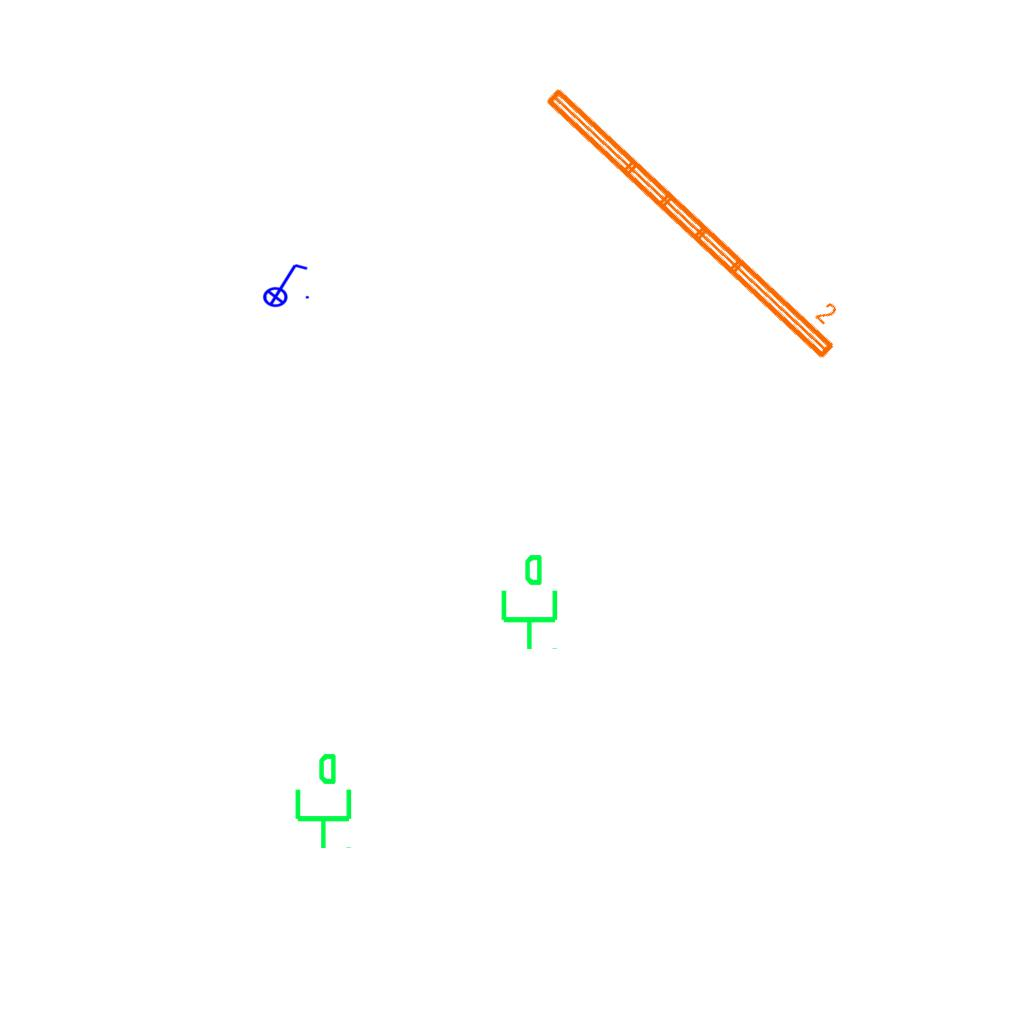Ambulanz_Pendelleuchte_LED: (537, 61, 860, 367)
Ausschalter_beleuchtet: (256, 260, 312, 308)
Datenanschluss_einfach: (493, 552, 562, 652), (287, 751, 356, 851)
